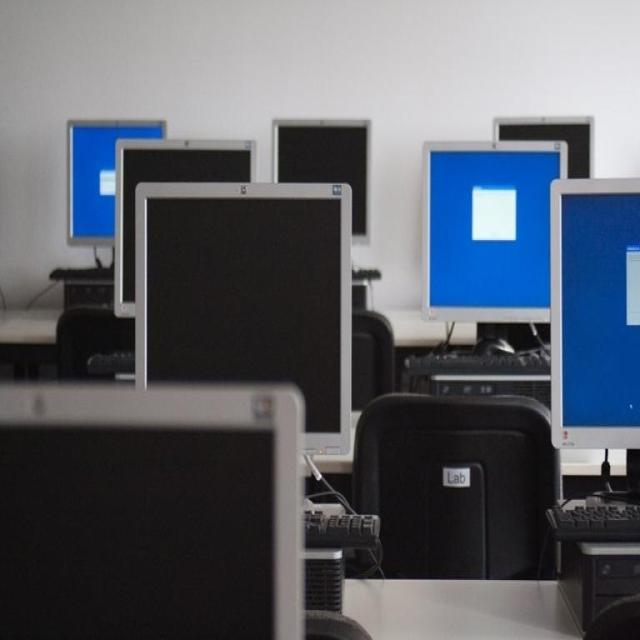E-waste: (6, 60, 640, 635)
